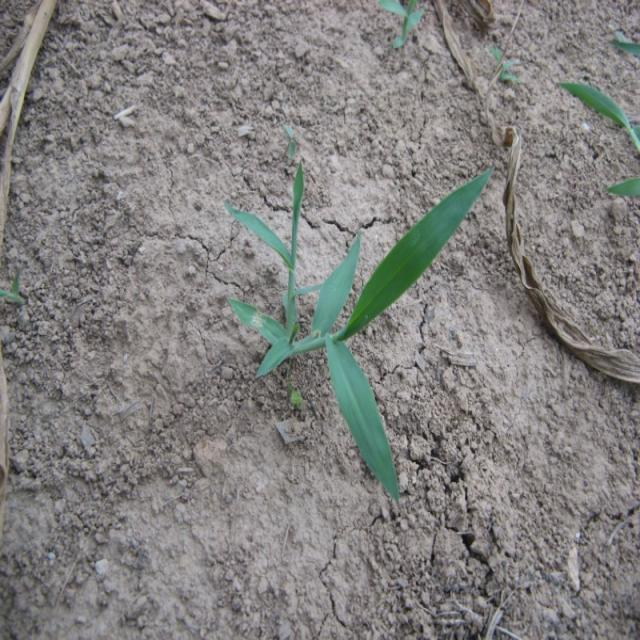bg: (228, 148, 493, 506)
